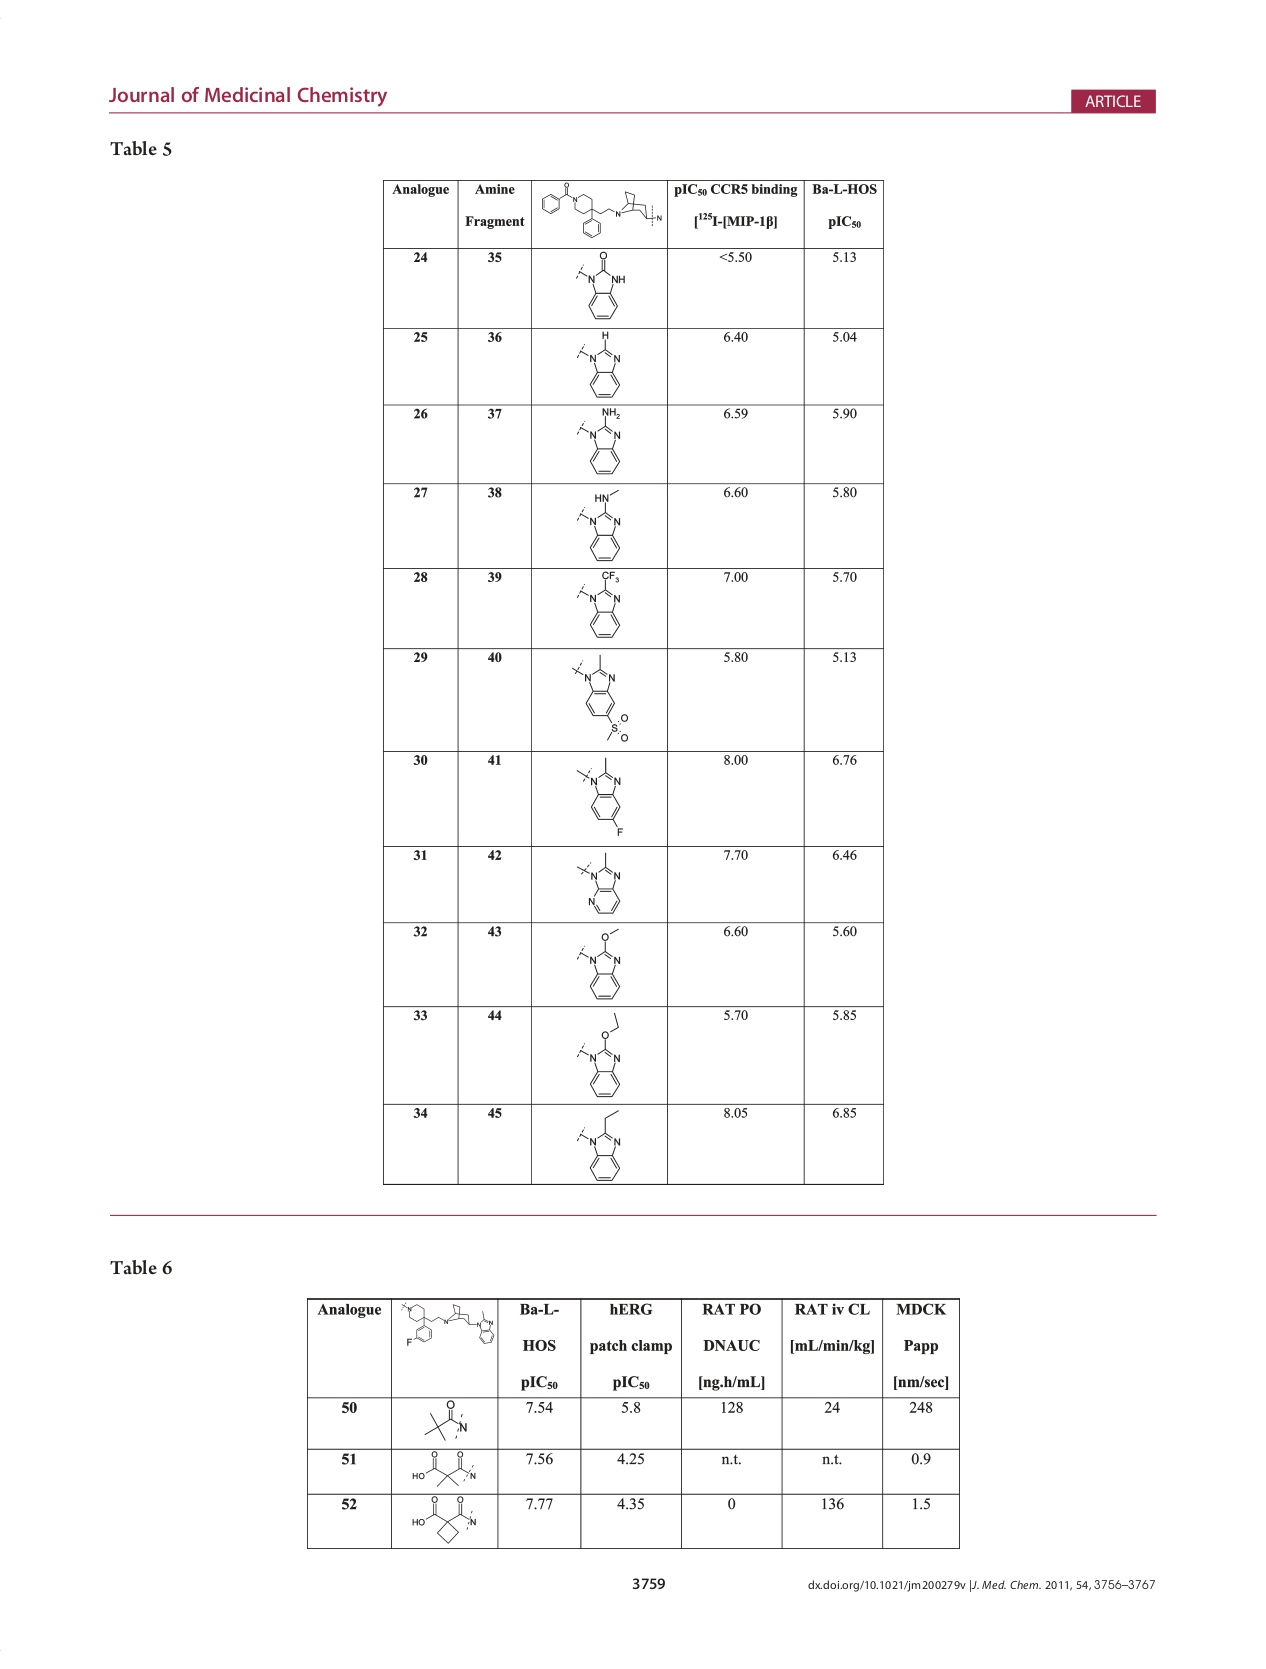exist_molecular: (540, 182, 664, 239), (570, 653, 632, 743), (399, 1301, 493, 1346), (574, 757, 625, 838), (574, 1011, 621, 1098), (573, 251, 626, 322), (574, 488, 624, 564), (574, 927, 622, 1001), (576, 1108, 622, 1182), (574, 569, 622, 640), (576, 406, 624, 475), (410, 1496, 479, 1544), (576, 330, 622, 400), (574, 851, 622, 916), (411, 1451, 477, 1487), (423, 1398, 471, 1440)
